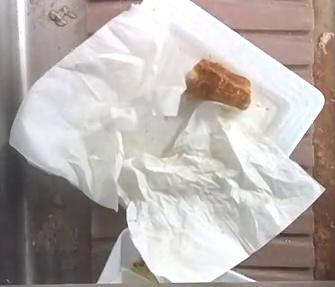pizza_crust: (186, 59, 251, 110)
